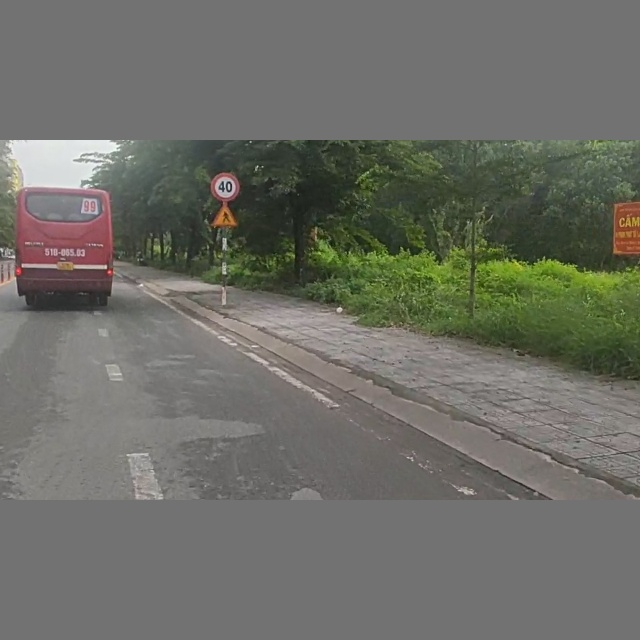P.127*40: (211, 171, 240, 201)
W.224: (211, 204, 239, 228)
